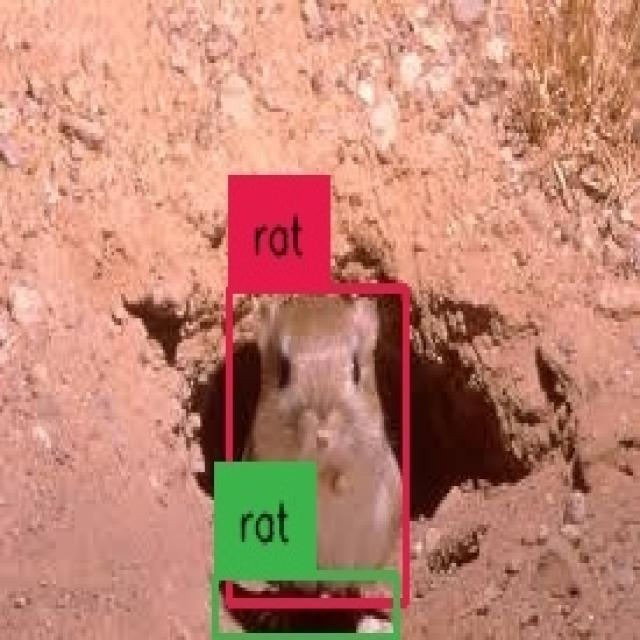rat: (230, 288, 408, 604), (214, 576, 396, 638)
